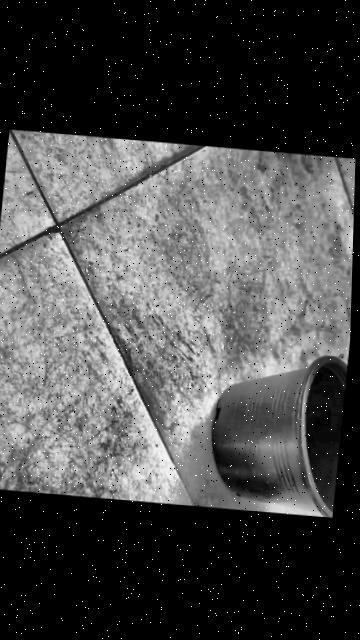pot: (205, 345, 348, 517)
